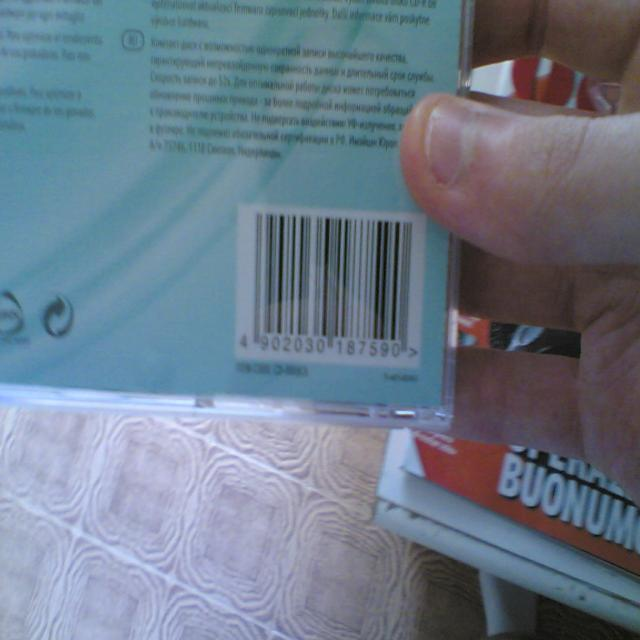barcode: (233, 204, 418, 368)
